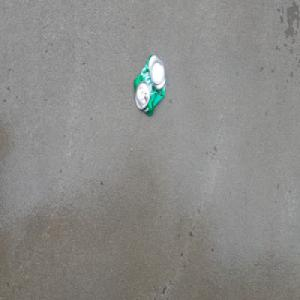SodaCan: (132, 51, 167, 117)
